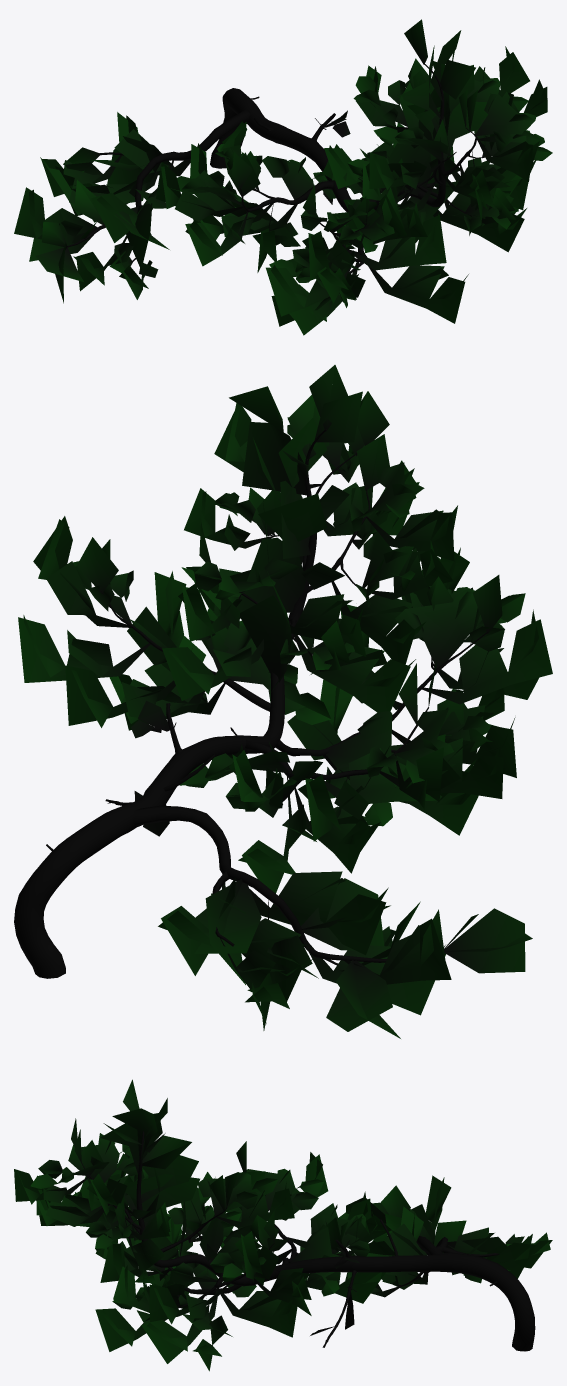
File: Pine_beach_crooked_01.fbx
3 views of the same model, one above another, from view 1: azimuth 30°, elevation 25°; view 2: azimuth 150°, elevation 25°; view 3: azimuth 270°, elevation 25° (orthographic). The views are drawn at different scales.
Parts seen in each view (by area): view 1: pine_beach_crooked_01_LOD0; view 2: pine_beach_crooked_01_LOD0; view 3: pine_beach_crooked_01_LOD0.
Part boxes in pixels (<box>): pine_beach_crooked_01_LOD0: <box>14,19,552,335</box>; pine_beach_crooked_01_LOD0: <box>14,365,552,1038</box>; pine_beach_crooked_01_LOD0: <box>14,1079,552,1371</box>.
Size of what is drawn, in the model's own units: 437 by 320 by 515.
